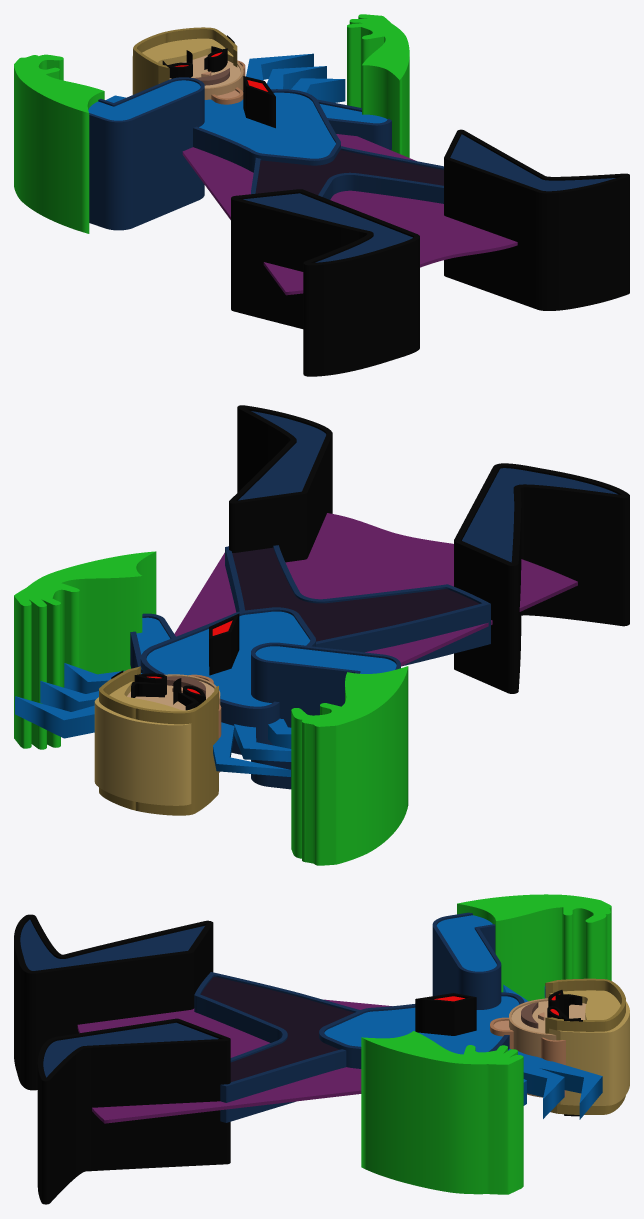
Rendered from emoji_u1f9b9_1f3fc_200d_2642.glb.
3 views of the same model, one above another, from view 1: azimuth 30°, elevation 25°; view 2: azimuth 150°, elevation 25°; view 3: azimuth 270°, elevation 25° (orthographic). The views are drawn at different scales.
Parts seen in each view (by area): view 1: emoji_u1f9b9_1f3fc_200d_2642; view 2: emoji_u1f9b9_1f3fc_200d_2642; view 3: emoji_u1f9b9_1f3fc_200d_2642.
Part boxes in pixels (box(x1,y1,x2,y2)): emoji_u1f9b9_1f3fc_200d_2642: box(14, 14, 629, 376); emoji_u1f9b9_1f3fc_200d_2642: box(14, 405, 629, 865); emoji_u1f9b9_1f3fc_200d_2642: box(14, 894, 629, 1204).
Bounding box in the file's own units: 0.0238 × 0.0078 × 0.0335.
